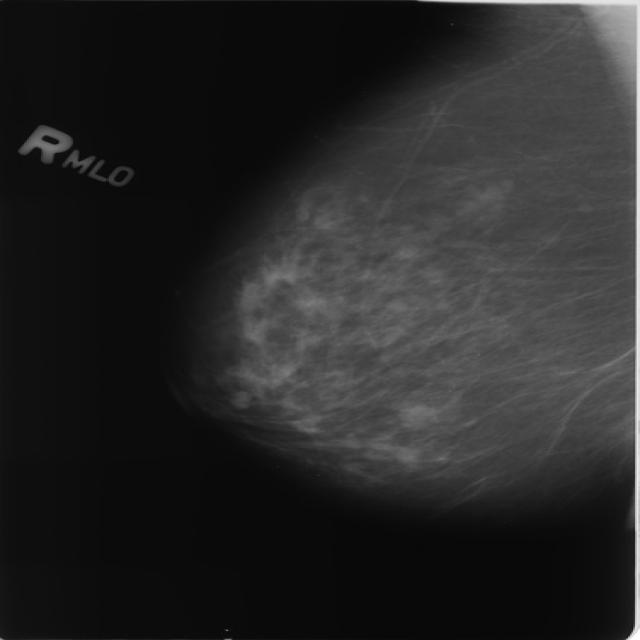tumour: (393, 402, 439, 427)
